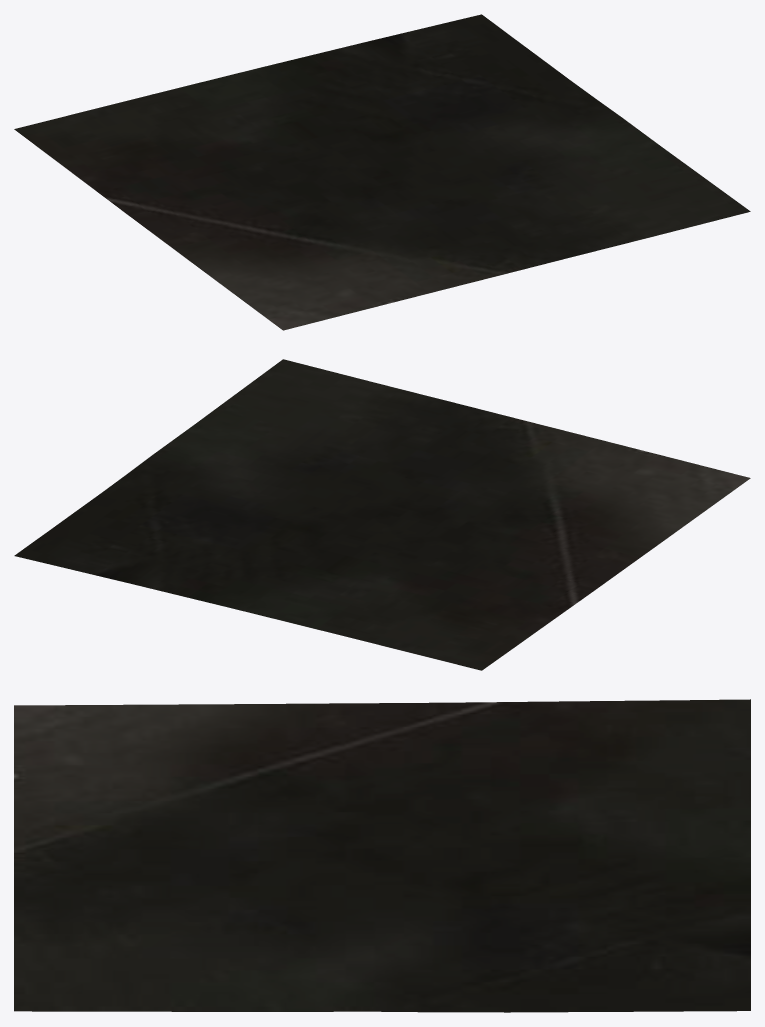
3 renders of one model, top to bottom at view 1: azimuth 30°, elevation 25°; view 2: azimuth 150°, elevation 25°; view 3: azimuth 270°, elevation 25°, orthographic. The views are drawn at different scales.
Size of the model in its own units: 2.07 by 0.0245 by 2.06.
Materials: 1 (1 with a texture image).
